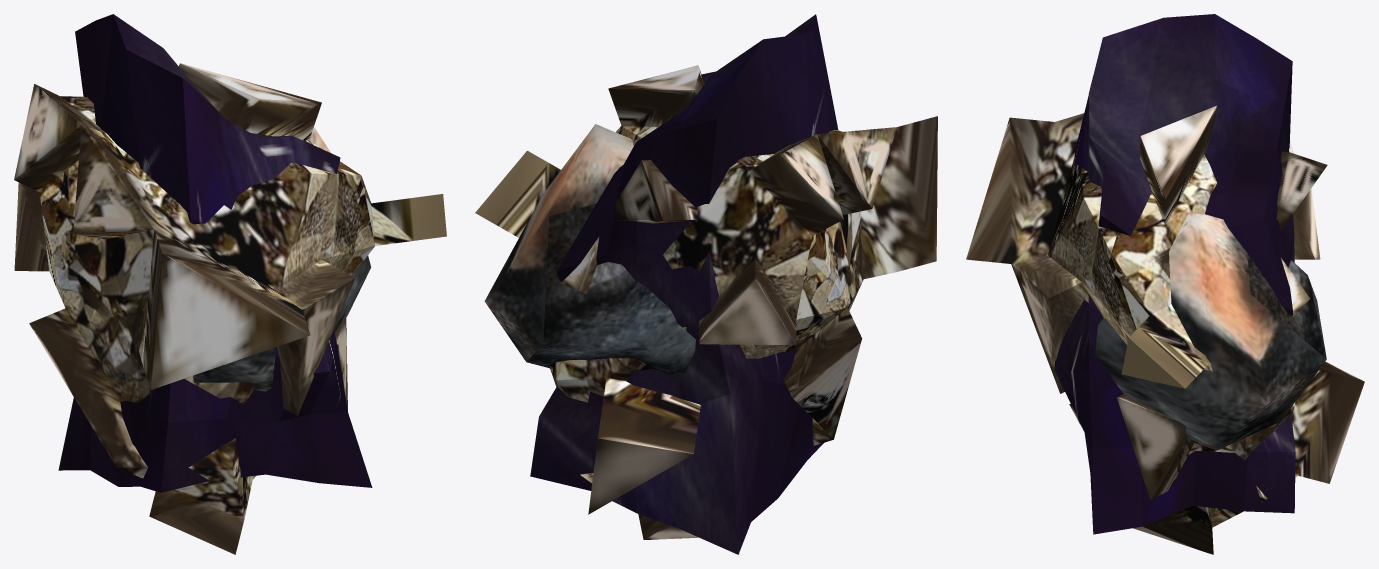
The model's file is DamagePedras.fbx.
3 views of the same model, side by side, from view 1: azimuth 30°, elevation 25°; view 2: azimuth 150°, elevation 25°; view 3: azimuth 270°, elevation 25° (orthographic). The views are drawn at different scales.
Visible parts, largest first — view 1: Pirita, Obsidiana, Meteorito; view 2: Pirita, Obsidiana, Meteorito; view 3: Pirita, Obsidiana, Meteorito.
Part boxes in pixels (x1,y1,x2,y2): Pirita: (14, 63, 446, 554); Obsidiana: (58, 14, 372, 492); Meteorito: (117, 127, 371, 391); Pirita: (475, 65, 937, 539); Obsidiana: (530, 14, 838, 554); Meteorito: (484, 124, 695, 377); Pirita: (966, 105, 1364, 554); Obsidiana: (1054, 14, 1295, 534); Meteorito: (1095, 213, 1326, 450).
Bounding box in the file's own units: 439 × 562 × 417.
